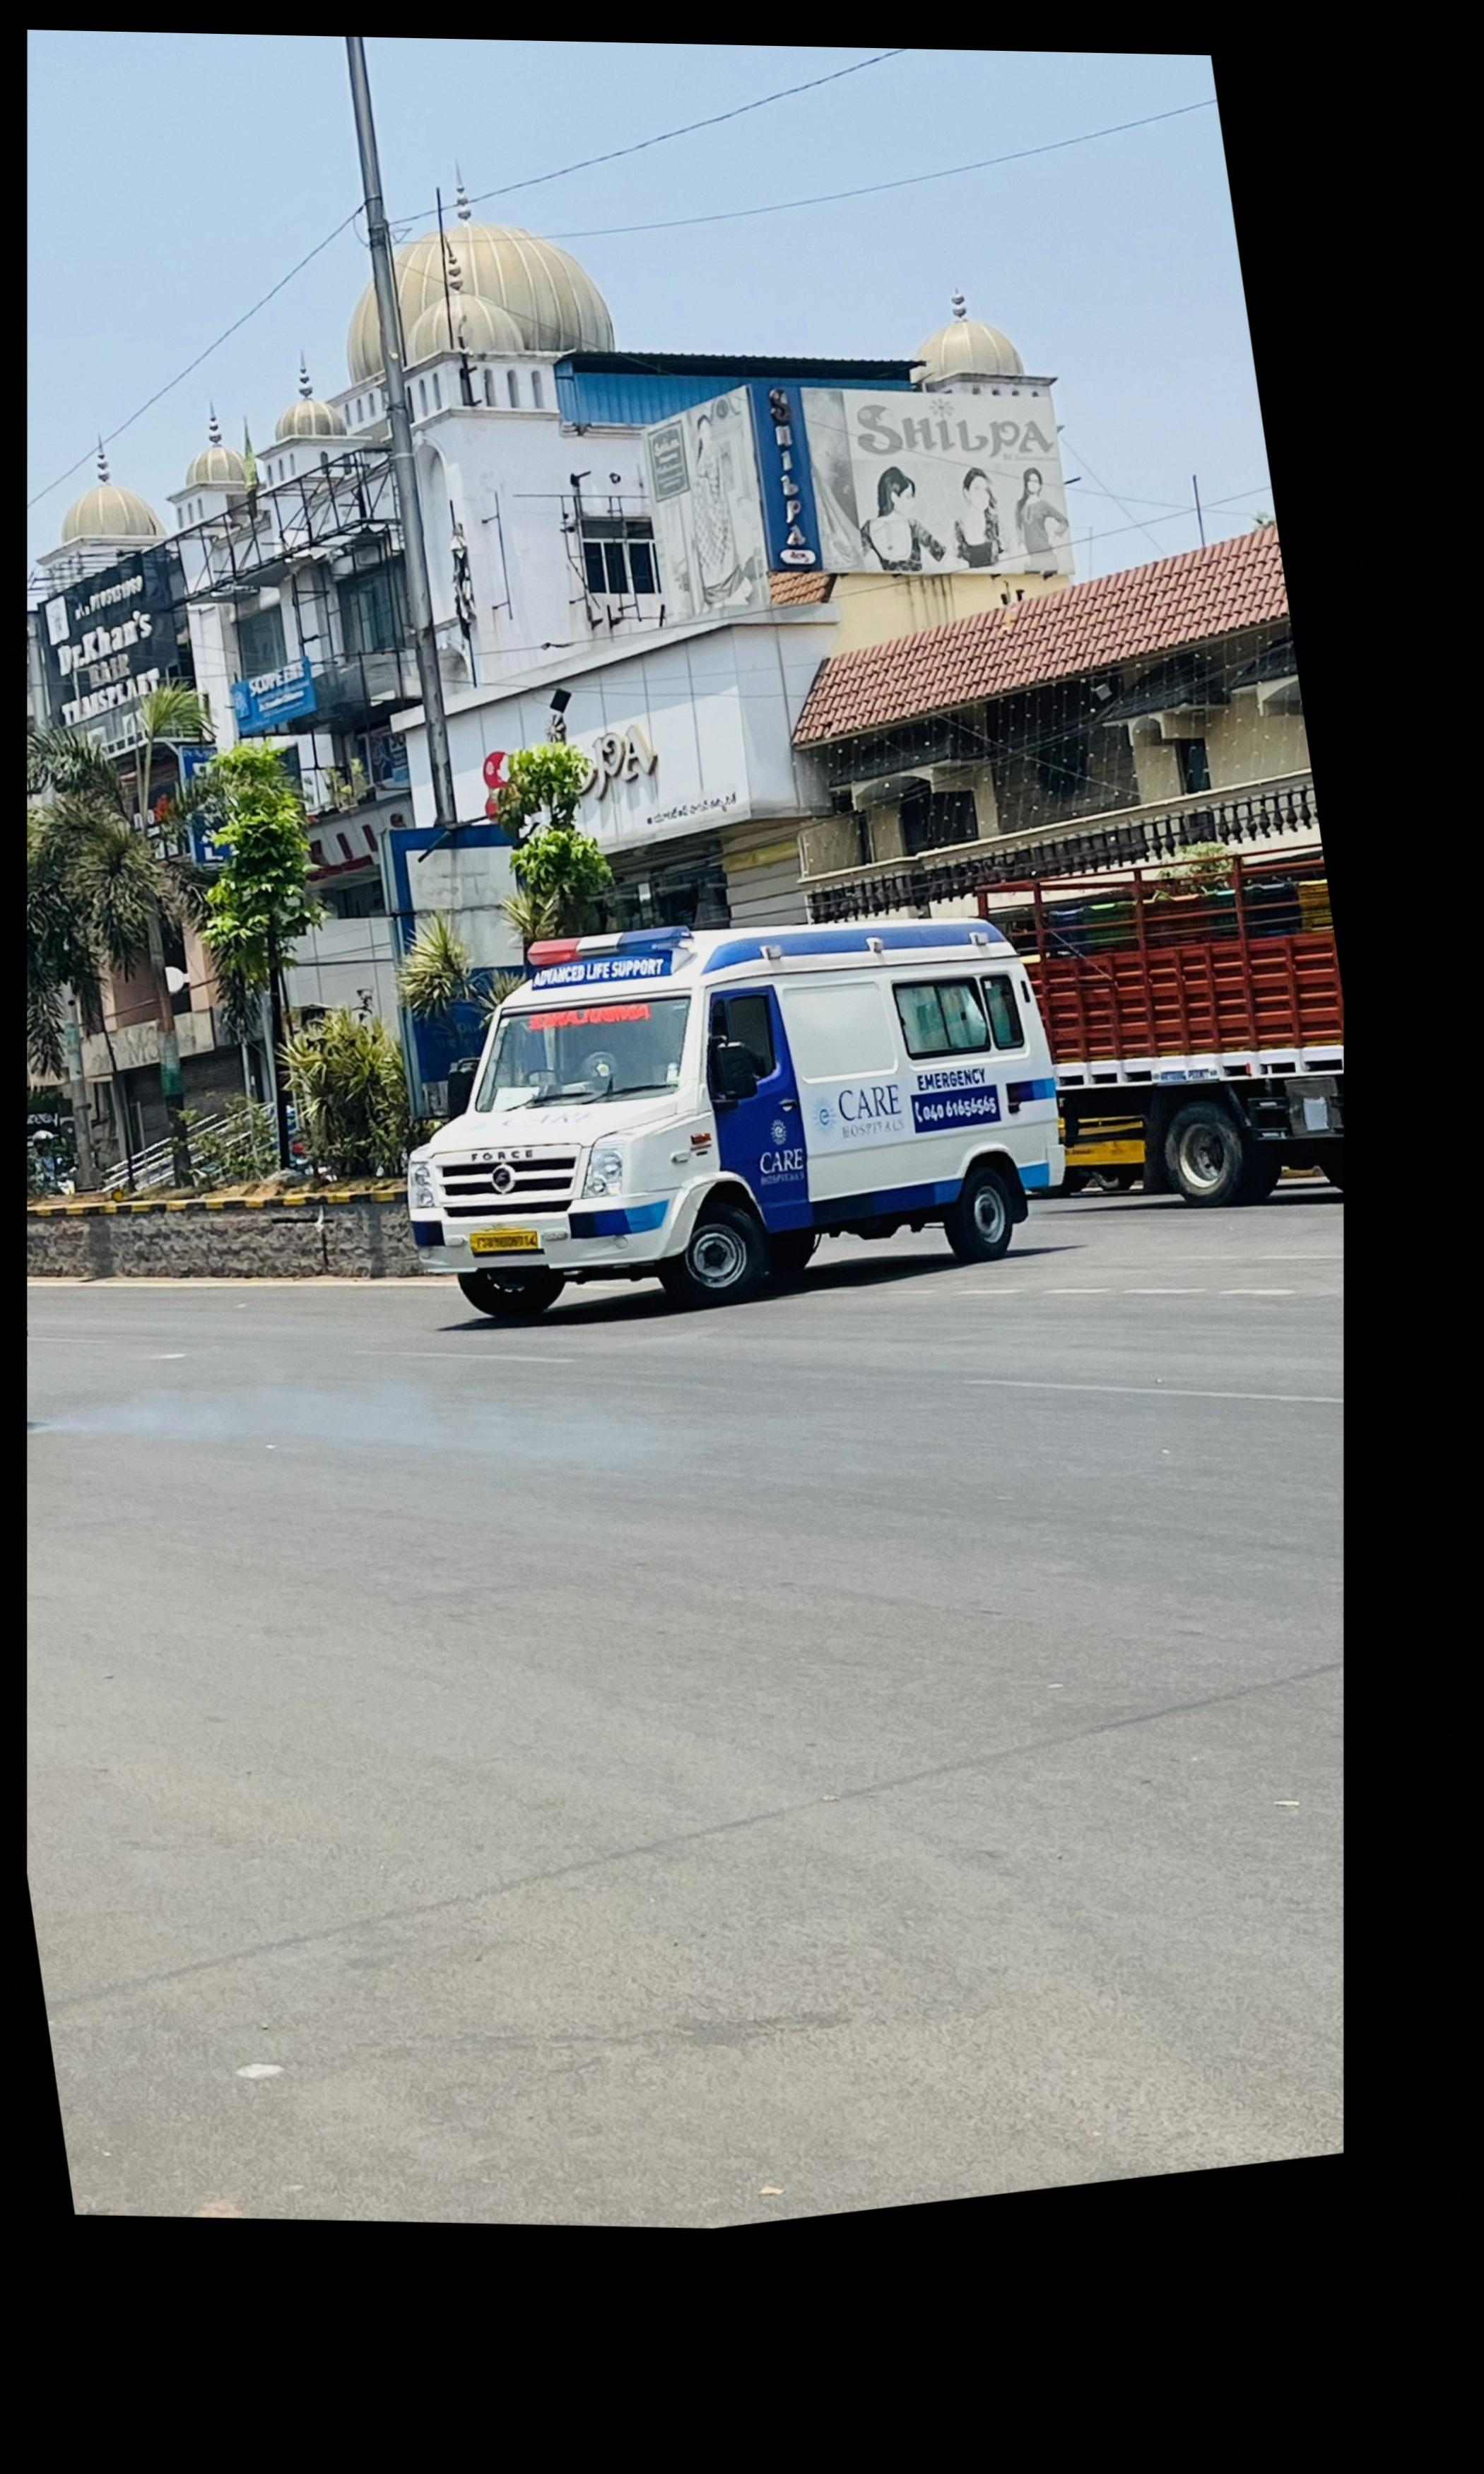ambulance: (405, 914, 1071, 1327)
